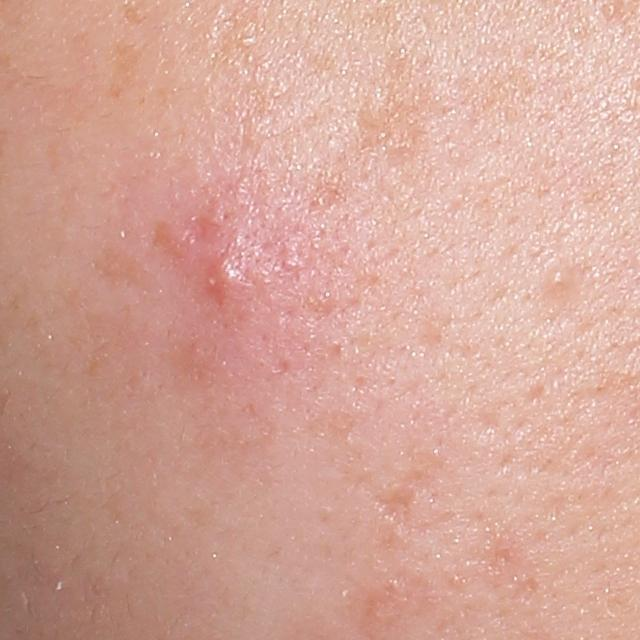atrophic_scar: (373, 484, 421, 543), (176, 210, 225, 247)
comedo: (548, 266, 573, 291)
melasma: (104, 35, 144, 104), (119, 0, 151, 27)
papule: (198, 248, 242, 308)
